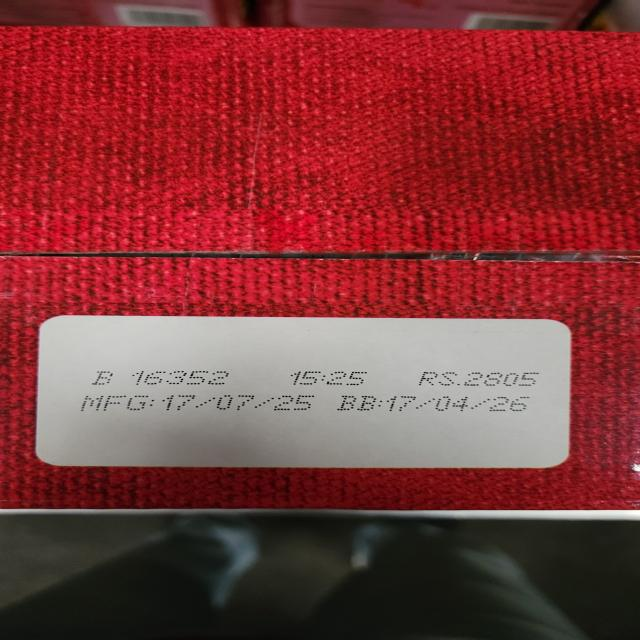BB: (338, 391, 549, 419)
Batch: (89, 366, 239, 389)
MFG: (84, 394, 318, 417)
RS: (416, 368, 546, 394)
TimeStamp: (285, 368, 383, 390)
